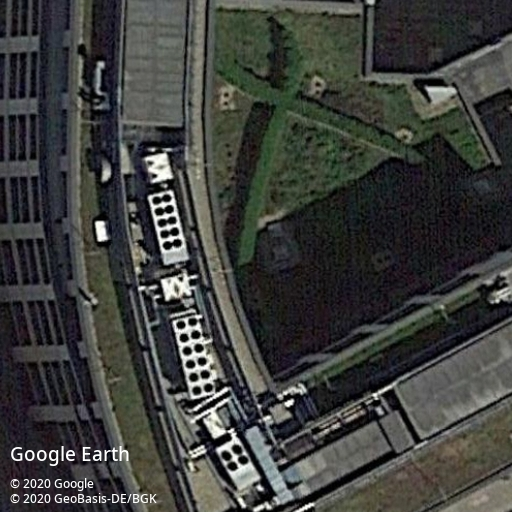Chiller: (171, 313, 220, 398), (147, 189, 189, 264), (216, 436, 261, 490)
